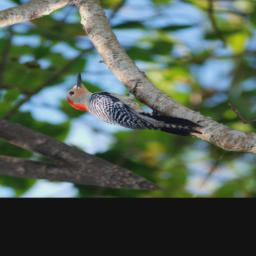Woodpecker: (54, 65, 225, 146)
